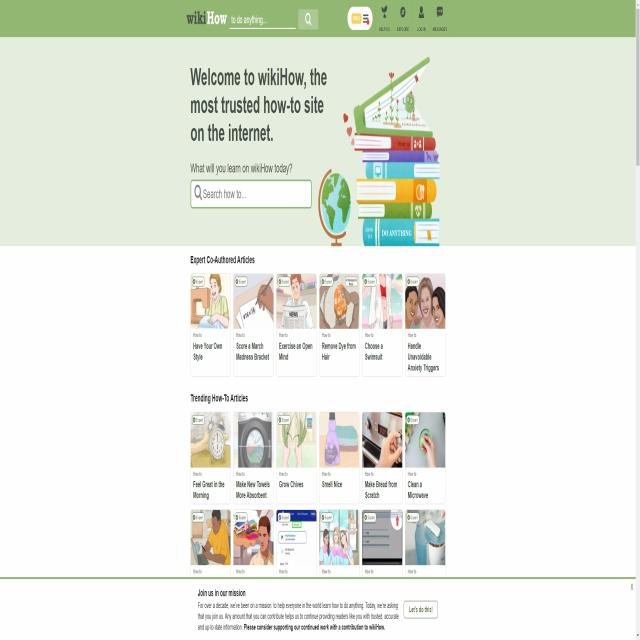menu-bar: (376, 1, 448, 37)
search: (190, 175, 314, 214), (229, 7, 321, 32)
